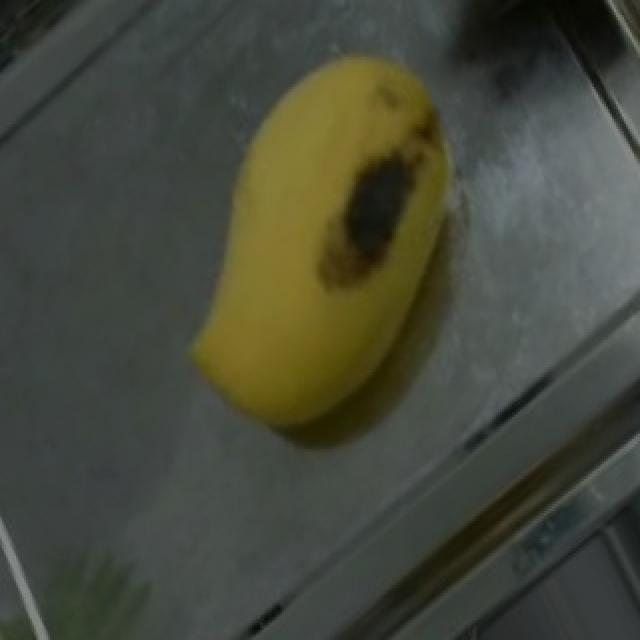fruit: (136, 127, 498, 491), (198, 8, 496, 342)
